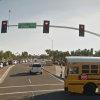Bus: (60, 53, 100, 95)
